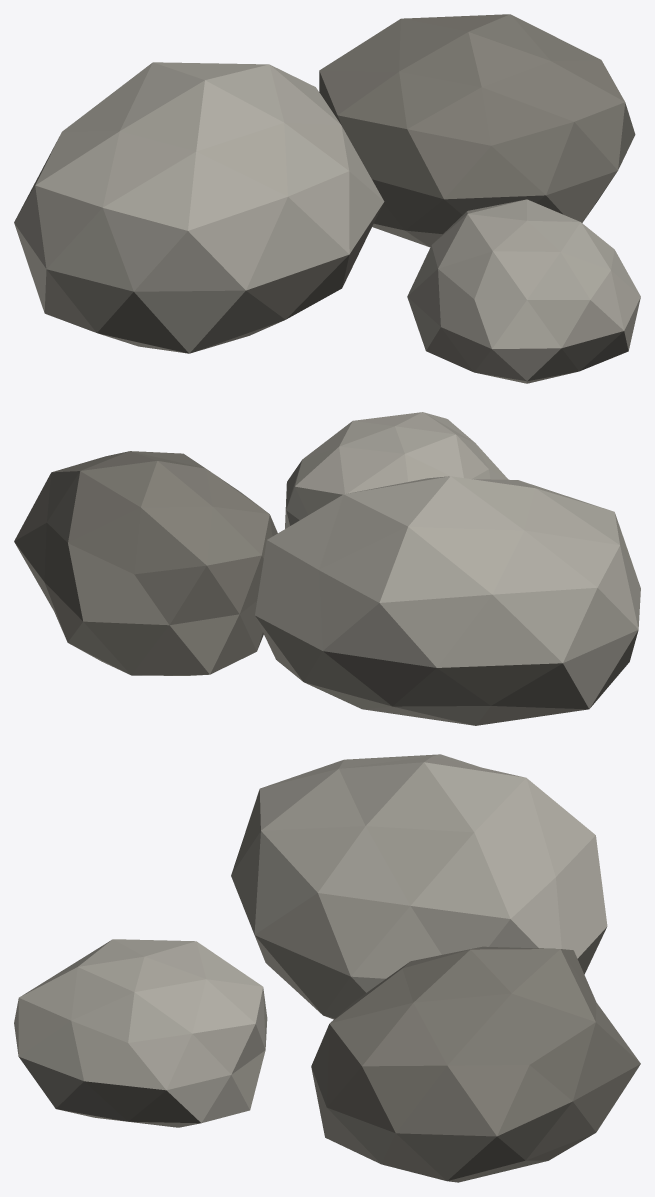
Rendered from sakura_garden_rock_b.glb.
The picture shows the model from 3 angles, top to bottom: view 1: azimuth 30°, elevation 25°; view 2: azimuth 150°, elevation 25°; view 3: azimuth 270°, elevation 25°; orthographic projection. The views are drawn at different scales.
Visible parts, largest first — view 1: sakura_garden_rock_b; view 2: sakura_garden_rock_b; view 3: sakura_garden_rock_b.
Boxes of the visible parts, <box> form: sakura_garden_rock_b: <box>14,14,640,383</box>; sakura_garden_rock_b: <box>14,412,640,725</box>; sakura_garden_rock_b: <box>14,754,640,1182</box>.
Bounding box in the file's own units: 0.6318 × 0.2272 × 0.5384.
Materials: 1 (1 with a texture image).
